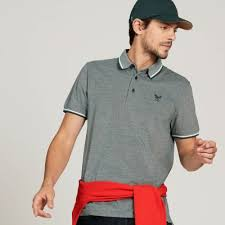C_polo shirt: (53, 54, 198, 221)
